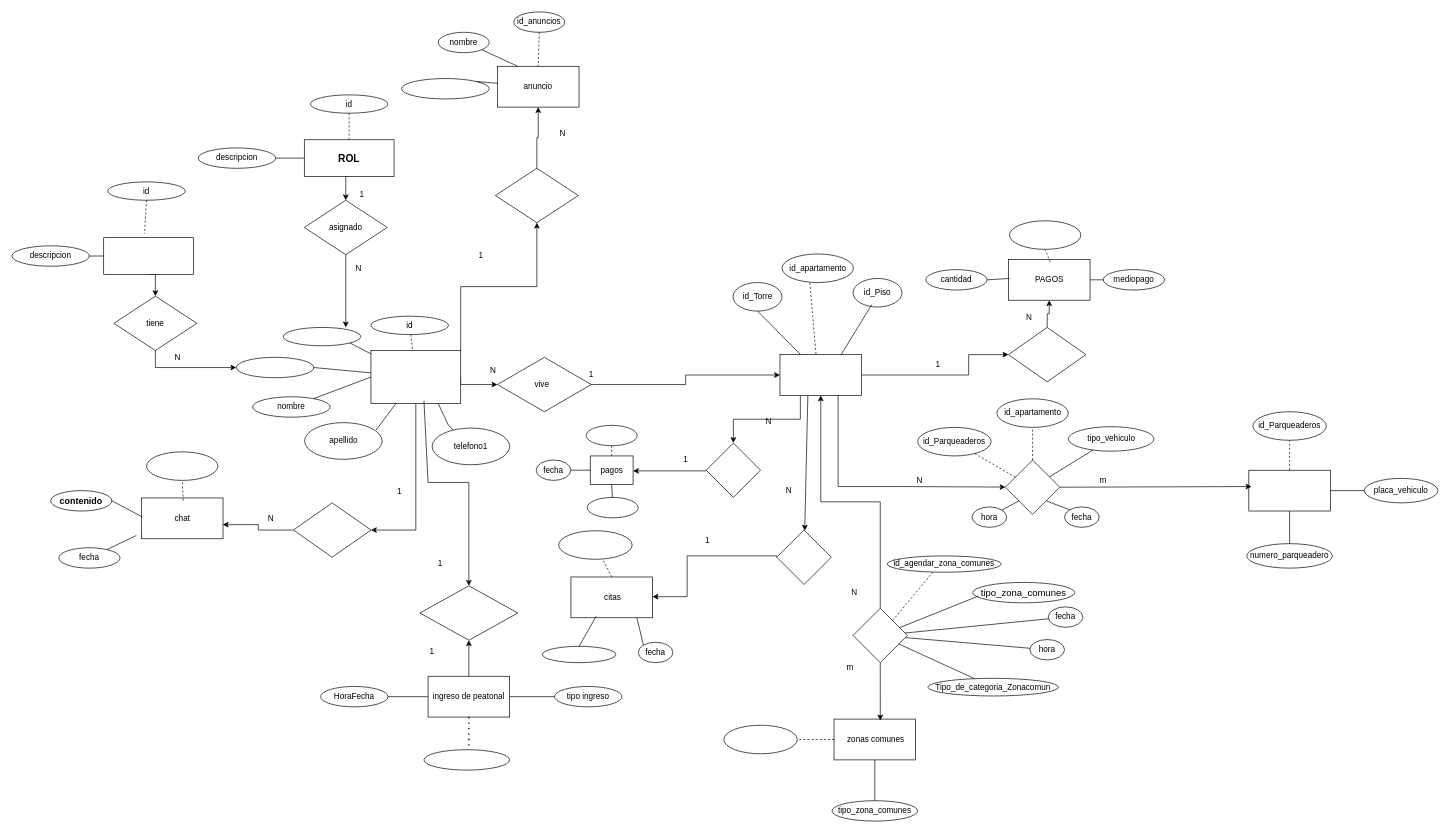
Image size: 1450x833. Some labels were removed from this diagram. The centre of each missing label's shape, as x and y in pixels:
"agenda" belongs at (x=803, y=556).
"agendar" belongs at (x=879, y=635).
"apartamento" belongs at (x=820, y=374).
"chatea" belongs at (x=332, y=529).
"hora publicacion" belongs at (x=445, y=88).
"id_citas" belongs at (x=595, y=544).
"id_mensaje" belongs at (x=182, y=465).
"id_pagos" belongs at (x=611, y=435).
"id_zona_comunes" belongs at (x=760, y=739).
"idIngresoPeatonal" belongs at (x=466, y=759).
"idPagos" belongs at (x=1045, y=234).
"idRol" belongs at (x=322, y=336).
"Parqueadero" belongs at (x=1289, y=490).
"publica" belongs at (x=536, y=195).
"PUEDE" belongs at (x=1047, y=354).
"realiza" belongs at (x=733, y=469).
"Registro" belongs at (x=415, y=377).
"solicita" belongs at (x=1032, y=486).
"tipo_cita" belongs at (x=579, y=654).
"tipo_Documento" belongs at (x=275, y=367).
"TIPODOC" belongs at (x=148, y=255).
"valor_pago" belongs at (x=612, y=507).
"ver" belongs at (x=468, y=612).
